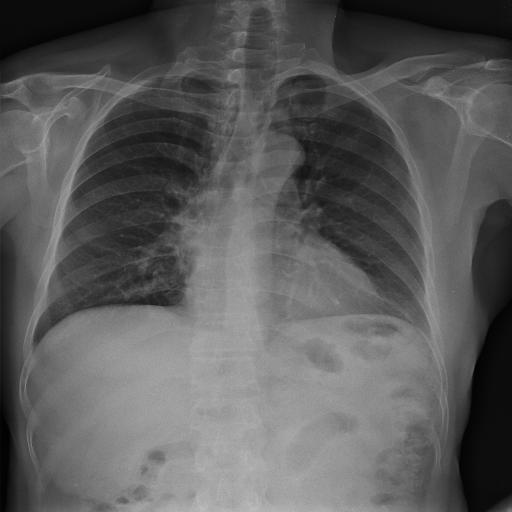Aortic enlargement: (226, 108, 280, 155)
Pleural thickening: (125, 68, 173, 78)
